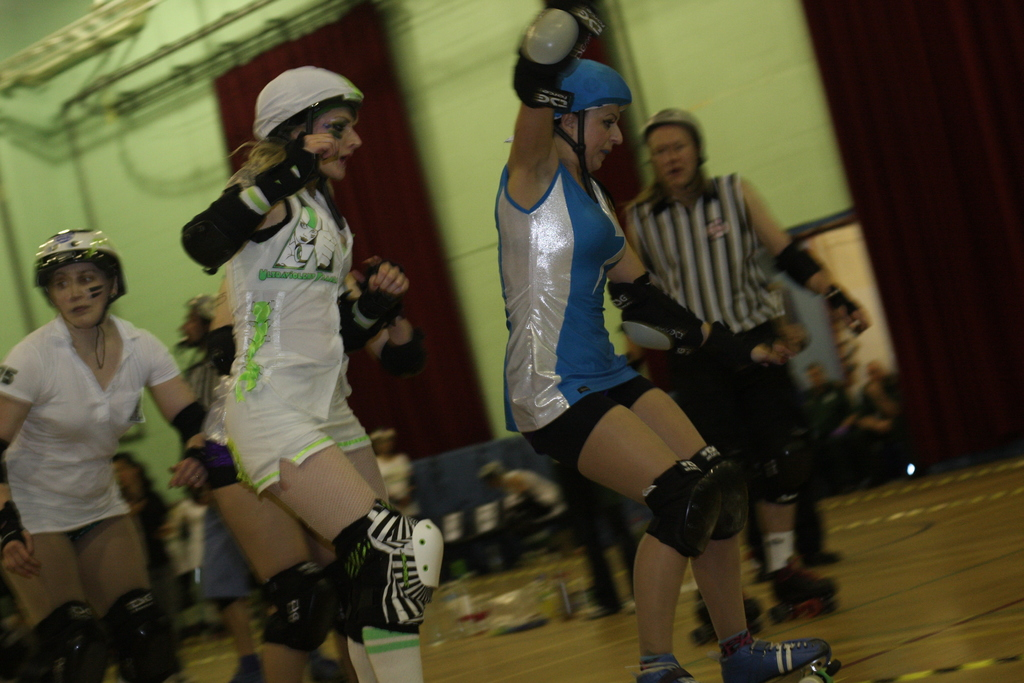Human_hand: (0, 524, 44, 580), (368, 261, 410, 309), (164, 456, 211, 494), (838, 298, 875, 338), (749, 340, 796, 370), (300, 133, 340, 165)
